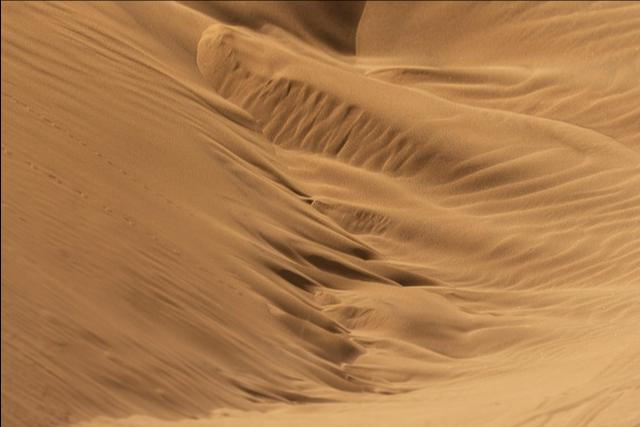Non_Gorille: (28, 4, 604, 420)
